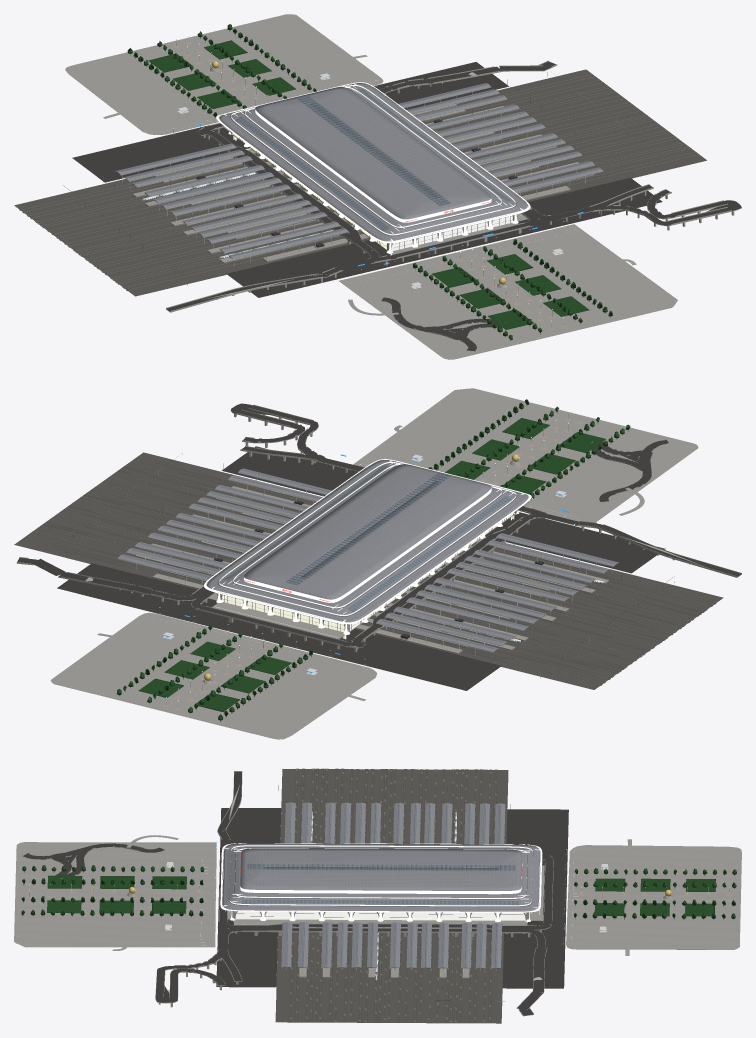
3 renders of one model, top to bottom at view 1: azimuth 30°, elevation 25°; view 2: azimuth 150°, elevation 25°; view 3: azimuth 270°, elevation 25°, orthographic. The views are drawn at different scales.
Visible parts, largest first — view 1: Plaza_S, Roof_Shell, NE_ContinuousBallast, TrackBed_0, Canopy_0_-286, Apron_edge, Rail_0_-1, CanopySky, ViaductTop, Parterre_0_-1, Platform_1, Viaduct (+8 smaller); view 2: Plaza_S, Roof_Shell, NE_ContinuousBallast, TrackBed_0, Apron_edge, Canopy_0_-286, Rail_0_-1, CanopySky, ViaductTop, Parterre_0_-1, Platform_1, Viaduct (+7 smaller); view 3: Plaza_S, Roof_Shell, NE_ContinuousBallast, TrackBed_0, Apron_edge, Canopy_0_-286, ViaductTop, CanopySky, Parterre_0_-1, DeckCol, Hedge_0_-1, Viaduct (+7 smaller).
Part boxes in pixels (x1,y1,x2,y2): Plaza_S: [65, 14, 677, 359]; Roof_Shell: [219, 83, 527, 241]; NE_ContinuousBallast: [14, 69, 706, 296]; TrackBed_0: [19, 73, 699, 291]; Canopy_0_-286: [116, 83, 603, 259]; Apron_edge: [72, 62, 662, 297]; Rail_0_-1: [20, 74, 699, 290]; CanopySky: [121, 84, 598, 256]; ViaductTop: [166, 61, 741, 351]; Parterre_0_-1: [148, 41, 589, 329]; Platform_1: [132, 104, 594, 263]; Viaduct: [166, 60, 741, 350]; Plaza_S: [50, 388, 698, 739]; Roof_Shell: [207, 460, 528, 622]; NE_ContinuousBallast: [14, 452, 723, 689]; TrackBed_0: [20, 458, 716, 685]; Apron_edge: [31, 446, 665, 690]; Canopy_0_-286: [118, 468, 618, 652]; Rail_0_-1: [21, 458, 715, 685]; CanopySky: [123, 466, 613, 648]; ViaductTop: [17, 403, 741, 647]; Parterre_0_-1: [138, 418, 605, 711]; Platform_1: [135, 486, 608, 653]; Viaduct: [16, 403, 741, 652]; Plaza_S: [14, 842, 741, 949]; Roof_Shell: [222, 843, 539, 911]; NE_ContinuousBallast: [275, 769, 508, 1023]; TrackBed_0: [289, 768, 497, 1023]; Apron_edge: [216, 808, 568, 1009]; Canopy_0_-286: [281, 802, 505, 968]; ViaductTop: [23, 771, 553, 1015]; CanopySky: [242, 804, 520, 966]; Parterre_0_-1: [47, 875, 715, 916]; DeckCol: [220, 843, 542, 922]; Hedge_0_-1: [21, 865, 736, 918]; Viaduct: [22, 771, 553, 1016].
Bounding box in the file's own units: 853 × 50.87 × 1030.
Materials: 30 (16 with a texture image).
